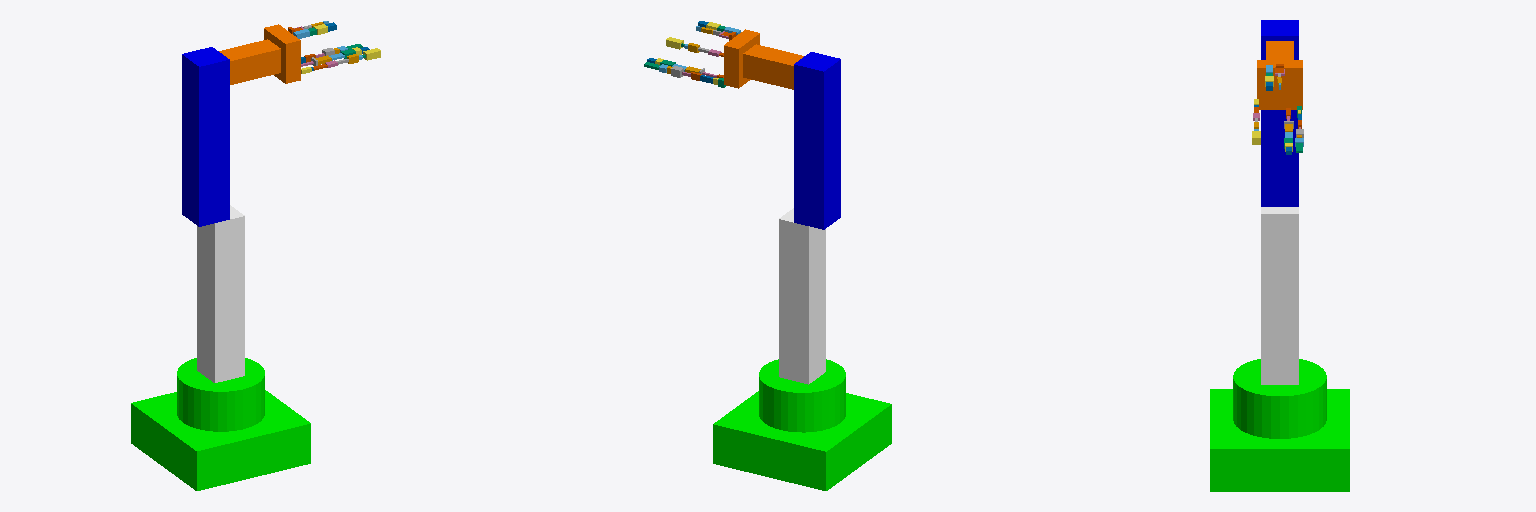
--- What the picture shows (computed from the rendered views, not written in the file) ---
3 views of the same robot in one strip: view 1: azimuth 30°, elevation 25°; view 2: azimuth 150°, elevation 25°; view 3: azimuth 270°, elevation 25° (orthographic).
Robot: robot — 44 links, 43 joints (40 revolute, 1 continuous, 2 fixed); root link base_link; default pose: all joints at 0.
Visible links, largest first — view 1: base_link, arm_link, support_link, wrist_link, palm_link; view 2: base_link, arm_link, support_link, wrist_link, palm_link; view 3: base_link, support_link, arm_link, palm_link, wrist_link.
Link boxes in pixels (box(x1,y1,x2,y2)): base_link: box(131, 358, 310, 490); arm_link: box(182, 47, 229, 226); support_link: box(197, 205, 244, 382); wrist_link: box(219, 39, 280, 84); palm_link: box(264, 24, 300, 83); base_link: box(713, 359, 891, 490); arm_link: box(794, 52, 840, 229); support_link: box(779, 208, 825, 384); wrist_link: box(743, 44, 803, 89); palm_link: box(724, 29, 759, 88); base_link: box(1210, 359, 1349, 491); support_link: box(1261, 207, 1298, 384); arm_link: box(1261, 20, 1298, 206); palm_link: box(1257, 60, 1302, 109); wrist_link: box(1266, 41, 1293, 59).
Size in the robot's own frame: 1.36 by 0.75 by 2.55 metres.
Geometry: primitives only (box / cylinder / sphere), no mesh files.

The robot description file, URDF, robot "robot":
<?xml version='1.0' encoding='utf-8'?>
<robot name="robot">
  <link name="base_link">
    <visual>
      <origin xyz="0 0 0.125" rpy="0 0 0" />
      <geometry>
        <box size="0.75 0.75 0.25" />
      </geometry>
      <material name="green" />
    </visual>
    <visual>
      <origin xyz="0 0 0.375" rpy="0 0 0" />
      <geometry>
        <cylinder length="0.25" radius="0.25" />
      </geometry>
      <material name="green">
        <color rgba="0 1 0 1" />
      </material>
    </visual>
    <collision>
      <geometry>
        <box size="0.75 0.75 0.5" />
      </geometry>
    </collision>
    <inertial>
      <mass value="0.5" />
      <inertia ixx="0.034" ixy="0.0" ixz="0.0" iyy="0.034" iyz="0.0" izz="0.034" />
    </inertial>
  </link>
  <link name="support_link">
    <visual>
      <origin xyz="0 0 0.5" rpy="0 0 0" />
      <geometry>
        <box size="0.2 0.2 1" />
      </geometry>
      <material name="white">
        <color rgba="1 1 1 1" />
      </material>
    </visual>
    <collision>
      <geometry>
        <box size="0.2 0.2 1" />
      </geometry>
    </collision>
    <inertial>
      <mass value="0.1" />
      <inertia ixx="0.01" ixy="0.0" ixz="0.0" iyy="0.01" iyz="0.0" izz="0.01" />
    </inertial>
  </link>
  <joint name="support_joint" type="continuous">
    <origin xyz="0 0 0.5" rpy="0 0 0" />
    <parent link="base_link" />
    <child link="support_link" />
    <axis xyz="0 0 1" />
  </joint>
  <link name="arm_link">
    <visual>
      <origin xyz="0 0 0.5" rpy="0 0 0" />
      <geometry>
        <box size="0.2 0.2 1" />
      </geometry>
      <material name="blue">
        <color rgba="0 0 1 1" />
      </material>
    </visual>
    <collision>
      <geometry>
        <box size="0.2 0.2 1" />
      </geometry>
    </collision>
    <inertial>
      <mass value="0.1" />
      <inertia ixx="0.01" ixy="0.0" ixz="0.0" iyy="0.01" iyz="0.0" izz="0.01" />
    </inertial>
  </link>
  <joint name="arm_joint" type="revolute">
    <origin xyz="-0.1 0 1" rpy="0 0 0" />
    <parent link="support_link" />
    <child link="arm_link" />
    <axis xyz="0 1 0" />
    <limit lower="-3.14" upper="3.14" effort="1.0" velocity="1.0" />
  </joint>
  <link name="wrist_link">
    <visual>
      <origin xyz="0 0 0.25" rpy="0 0 0" />
      <geometry>
        <box size="0.15 0.15 0.5" />
      </geometry>
      <material name="orange">
        <color rgba="1 0.5 0 1" />
      </material>
    </visual>
    <collision>
      <geometry>
        <box size="0.15 0.15 0.5" />
      </geometry>
    </collision>
    <inertial>
      <mass value="0.1" />
      <inertia ixx="0.01" ixy="0.0" ixz="0.0" iyy="0.01" iyz="0.0" izz="0.01" />
    </inertial>
  </link>
  <joint name="wrist_joint" type="fixed">
    <origin xyz="0 0 0.9" rpy="0 1.571 0" />
    <parent link="arm_link" />
    <child link="wrist_link" />
  </joint>
  <link name="palm_link">
    <visual>
      <origin xyz="0 0 0.05" rpy="0 0 0" />
      <geometry>
        <box size="0.25 0.25 0.1" />
      </geometry>
      <material name="orange" />
    </visual>
    <collision>
      <geometry>
        <box size="0.25 0.25 0.1" />
      </geometry>
    </collision>
    <inertial>
      <mass value="0.1" />
      <inertia ixx="0.01" ixy="0.0" ixz="0.0" iyy="0.01" iyz="0.0" izz="0.01" />
    </inertial>
  </link>
  <joint name="palm_joint" type="fixed">
    <origin xyz="0 0 0.45" rpy="0 0 0" />
    <parent link="wrist_link" />
    <child link="palm_link" />
  </joint>
  <link name="finger_link_0_0">
    <visual>
      <origin xyz="0 0 0.0385" rpy="0 0 0" />
      <geometry>
        <box size="0.013 0.046 0.077" />
      </geometry>
    </visual>
    <collision>
      <geometry>
        <box size="0.013 0.046 0.077" />
      </geometry>
    </collision>
    <inertial>
      <mass value="0.014" />
      <inertia ixx="0.0" iyy="0.0" izz="0.0" ixy="0" ixz="0" iyz="0" />
    </inertial>
  </link>
  <joint name="finger_joint_palm_link_to_finger_link_0_0" type="revolute">
    <origin xyz="-0.125 -0.004 0.1" rpy="0 0 0" />
    <parent link="palm_link" />
    <child link="finger_link_0_0" />
    <axis xyz="0.0 -1.0 0.0" />
    <limit lower="-3.142" upper="3.142" effort="10" velocity="10" />
  </joint>
  <link name="finger_link_0_1">
    <visual>
      <origin xyz="0 0 0.0055" rpy="0 0 0" />
      <geometry>
        <box size="0.015 0.047 0.011" />
      </geometry>
    </visual>
    <collision>
      <geometry>
        <box size="0.015 0.047 0.011" />
      </geometry>
    </collision>
    <inertial>
      <mass value="0.002" />
      <inertia ixx="0.0" iyy="0.0" izz="0.0" ixy="0" ixz="0" iyz="0" />
    </inertial>
  </link>
  <joint name="finger_joint_finger_link_0_0_to_finger_link_0_1" type="revolute">
    <origin xyz="0.0 0.0 0.077" rpy="0 0 0" />
    <parent link="finger_link_0_0" />
    <child link="finger_link_0_1" />
    <axis xyz="0.0 1.0 0.0" />
    <limit lower="-3.142" upper="3.142" effort="10" velocity="10" />
  </joint>
  <link name="finger_link_0_2">
    <visual>
      <origin xyz="0 0 0.0265" rpy="0 0 0" />
      <geometry>
        <box size="0.021 0.015 0.053" />
      </geometry>
    </visual>
    <collision>
      <geometry>
        <box size="0.021 0.015 0.053" />
      </geometry>
    </collision>
    <inertial>
      <mass value="0.005" />
      <inertia ixx="0.0" iyy="0.0" izz="0.0" ixy="0" ixz="0" iyz="0" />
    </inertial>
  </link>
  <joint name="finger_joint_finger_link_0_1_to_finger_link_0_2" type="revolute">
    <origin xyz="0.0 0.0 0.011" rpy="0 0 0" />
    <parent link="finger_link_0_1" />
    <child link="finger_link_0_2" />
    <axis xyz="0.0 1.0 0.0" />
    <limit lower="-3.142" upper="3.142" effort="10" velocity="10" />
  </joint>
  <link name="finger_link_0_3">
    <visual>
      <origin xyz="0 0 0.0125" rpy="0 0 0" />
      <geometry>
        <box size="0.025 0.023 0.025" />
      </geometry>
    </visual>
    <collision>
      <geometry>
        <box size="0.025 0.023 0.025" />
      </geometry>
    </collision>
    <inertial>
      <mass value="0.004" />
      <inertia ixx="0.0" iyy="0.0" izz="0.0" ixy="0" ixz="0" iyz="0" />
    </inertial>
  </link>
  <joint name="finger_joint_finger_link_0_2_to_finger_link_0_3" type="revolute">
    <origin xyz="0.0 0.0 0.053" rpy="0 0 0" />
    <parent link="finger_link_0_2" />
    <child link="finger_link_0_3" />
    <axis xyz="0.0 1.0 0.0" />
    <limit lower="-3.142" upper="3.142" effort="10" velocity="10" />
  </joint>
  <link name="finger_link_1_0">
    <visual>
      <origin xyz="0 0 0.0455" rpy="0 0 0" />
      <geometry>
        <box size="0.032 0.039 0.091" />
      </geometry>
    </visual>
    <collision>
      <geometry>
        <box size="0.032 0.039 0.091" />
      </geometry>
    </collision>
    <inertial>
      <mass value="0.034" />
      <inertia ixx="0.0" iyy="0.0" izz="0.0" ixy="0" ixz="0" iyz="0" />
    </inertial>
  </link>
  <joint name="finger_joint_palm_link_to_finger_link_1_0" type="revolute">
    <origin xyz="-0.125 -0.056 0.1" rpy="0 0 0" />
    <parent link="palm_link" />
    <child link="finger_link_1_0" />
    <axis xyz="0.0 -1.0 0.0" />
    <limit lower="-3.142" upper="3.142" effort="10" velocity="10" />
  </joint>
  <link name="finger_link_1_1">
    <visual>
      <origin xyz="0 0 0.0225" rpy="0 0 0" />
      <geometry>
        <box size="0.028 0.039 0.045" />
      </geometry>
    </visual>
    <collision>
      <geometry>
        <box size="0.028 0.039 0.045" />
      </geometry>
    </collision>
    <inertial>
      <mass value="0.015" />
      <inertia ixx="0.0" iyy="0.0" izz="0.0" ixy="0" ixz="0" iyz="0" />
    </inertial>
  </link>
  <joint name="finger_joint_finger_link_1_0_to_finger_link_1_1" type="revolute">
    <origin xyz="0.0 0.0 0.091" rpy="0 0 0" />
    <parent link="finger_link_1_0" />
    <child link="finger_link_1_1" />
    <axis xyz="0.0 1.0 0.0" />
    <limit lower="-3.142" upper="3.142" effort="10" velocity="10" />
  </joint>
  <link name="finger_link_1_2">
    <visual>
      <origin xyz="0 0 0.035" rpy="0 0 0" />
      <geometry>
        <box size="0.035 0.048 0.07" />
      </geometry>
    </visual>
    <collision>
      <geometry>
        <box size="0.035 0.048 0.07" />
      </geometry>
    </collision>
    <inertial>
      <mass value="0.035" />
      <inertia ixx="0.0" iyy="0.0" izz="0.0" ixy="0" ixz="0" iyz="0" />
    </inertial>
  </link>
  <joint name="finger_joint_finger_link_1_1_to_finger_link_1_2" type="revolute">
    <origin xyz="0.0 0.0 0.045" rpy="0 0 0" />
    <parent link="finger_link_1_1" />
    <child link="finger_link_1_2" />
    <axis xyz="1.0 0.0 0.0" />
    <limit lower="-3.142" upper="3.142" effort="10" velocity="10" />
  </joint>
  <link name="finger_link_1_3">
    <visual>
      <origin xyz="0 0 0.0295" rpy="0 0 0" />
      <geometry>
        <box size="0.03 0.038 0.059" />
      </geometry>
    </visual>
    <collision>
      <geometry>
        <box size="0.03 0.038 0.059" />
      </geometry>
    </collision>
    <inertial>
      <mass value="0.02" />
      <inertia ixx="0.0" iyy="0.0" izz="0.0" ixy="0" ixz="0" iyz="0" />
    </inertial>
  </link>
  <joint name="finger_joint_finger_link_1_2_to_finger_link_1_3" type="revolute">
    <origin xyz="0.0 0.0 0.07" rpy="0 0 0" />
    <parent link="finger_link_1_2" />
    <child link="finger_link_1_3" />
    <axis xyz="1.0 0.0 0.0" />
    <limit lower="-3.142" upper="3.142" effort="10" velocity="10" />
  </joint>
  <link name="finger_link_2_0">
    <visual>
      <origin xyz="0 0 0.0415" rpy="0 0 0" />
      <geometry>
        <box size="0.024 0.028 0.083" />
      </geometry>
    </visual>
    <collision>
      <geometry>
        <box size="0.024 0.028 0.083" />
      </geometry>
    </collision>
    <inertial>
      <mass value="0.017" />
      <inertia ixx="0.0" iyy="0.0" izz="0.0" ixy="0" ixz="0" iyz="0" />
    </inertial>
  </link>
  <joint name="finger_joint_palm_link_to_finger_link_2_0" type="revolute">
    <origin xyz="0.125 0.047 0.1" rpy="0 0 0" />
    <parent link="palm_link" />
    <child link="finger_link_2_0" />
    <axis xyz="0.0 1.0 0.0" />
    <limit lower="-3.142" upper="3.142" effort="10" velocity="10" />
  </joint>
  <link name="finger_link_2_1">
    <visual>
      <origin xyz="0 0 0.049" rpy="0 0 0" />
      <geometry>
        <box size="0.011 0.015 0.098" />
      </geometry>
    </visual>
    <collision>
      <geometry>
        <box size="0.011 0.015 0.098" />
      </geometry>
    </collision>
    <inertial>
      <mass value="0.005" />
      <inertia ixx="0.0" iyy="0.0" izz="0.0" ixy="0" ixz="0" iyz="0" />
    </inertial>
  </link>
  <joint name="finger_joint_finger_link_2_0_to_finger_link_2_1" type="revolute">
    <origin xyz="0.0 0.0 0.083" rpy="0 0 0" />
    <parent link="finger_link_2_0" />
    <child link="finger_link_2_1" />
    <axis xyz="1.0 1.0 0.0" />
    <limit lower="-3.142" upper="3.142" effort="10" velocity="10" />
  </joint>
  <link name="finger_link_2_2">
    <visual>
      <origin xyz="0 0 0.0065" rpy="0 0 0" />
      <geometry>
        <box size="0.04 0.05 0.013" />
      </geometry>
    </visual>
    <collision>
      <geometry>
        <box size="0.04 0.05 0.013" />
      </geometry>
    </collision>
    <inertial>
      <mass value="0.008" />
      <inertia ixx="0.0" iyy="0.0" izz="0.0" ixy="0" ixz="0" iyz="0" />
    </inertial>
  </link>
  <joint name="finger_joint_finger_link_2_1_to_finger_link_2_2" type="revolute">
    <origin xyz="0.0 0.0 0.098" rpy="0 0 0" />
    <parent link="finger_link_2_1" />
    <child link="finger_link_2_2" />
    <axis xyz="0.0 1.0 0.0" />
    <limit lower="-3.142" upper="3.142" effort="10" velocity="10" />
  </joint>
  <link name="finger_link_2_3">
    <visual>
      <origin xyz="0 0 0.0465" rpy="0 0 0" />
      <geometry>
        <box size="0.022 0.046 0.093" />
      </geometry>
    </visual>
    <collision>
      <geometry>
        <box size="0.022 0.046 0.093" />
      </geometry>
    </collision>
    <inertial>
      <mass value="0.028" />
      <inertia ixx="0.0" iyy="0.0" izz="0.0" ixy="0" ixz="0" iyz="0" />
    </inertial>
  </link>
  <joint name="finger_joint_finger_link_2_2_to_finger_link_2_3" type="revolute">
    <origin xyz="0.0 0.0 0.013" rpy="0 0 0" />
    <parent link="finger_link_2_2" />
    <child link="finger_link_2_3" />
    <axis xyz="0.0 1.0 0.0" />
    <limit lower="-3.142" upper="3.142" effort="10" velocity="10" />
  </joint>
  <link name="finger_link_2_4">
    <visual>
      <origin xyz="0 0 0.044" rpy="0 0 0" />
      <geometry>
        <box size="0.013 0.041 0.088" />
      </geometry>
    </visual>
    <collision>
      <geometry>
        <box size="0.013 0.041 0.088" />
      </geometry>
    </collision>
    <inertial>
      <mass value="0.014" />
      <inertia ixx="0.0" iyy="0.0" izz="0.0" ixy="0" ixz="0" iyz="0" />
    </inertial>
  </link>
  <joint name="finger_joint_finger_link_2_3_to_finger_link_2_4" type="revolute">
    <origin xyz="0.0 0.0 0.093" rpy="0 0 0" />
    <parent link="finger_link_2_3" />
    <child link="finger_link_2_4" />
    <axis xyz="1.0 1.0 0.0" />
    <limit lower="-3.142" upper="3.142" effort="10" velocity="10" />
  </joint>
  <link name="finger_link_2_5">
    <visual>
      <origin xyz="0 0 0.037" rpy="0 0 0" />
      <geometry>
        <box size="0.03 0.047 0.074" />
      </geometry>
    </visual>
    <collision>
      <geometry>
        <box size="0.03 0.047 0.074" />
      </geometry>
    </collision>
    <inertial>
      <mass value="0.031" />
      <inertia ixx="0.0" iyy="0.0" izz="0.0" ixy="0" ixz="0" iyz="0" />
    </inertial>
  </link>
  <joint name="finger_joint_finger_link_2_4_to_finger_link_2_5" type="revolute">
    <origin xyz="0.0 0.0 0.088" rpy="0 0 0" />
    <parent link="finger_link_2_4" />
    <child link="finger_link_2_5" />
    <axis xyz="0.0 1.0 0.0" />
    <limit lower="-3.142" upper="3.142" effort="10" velocity="10" />
  </joint>
  <link name="finger_link_2_6">
    <visual>
      <origin xyz="0 0 0.018" rpy="0 0 0" />
      <geometry>
        <box size="0.032 0.046 0.036" />
      </geometry>
    </visual>
    <collision>
      <geometry>
        <box size="0.032 0.046 0.036" />
      </geometry>
    </collision>
    <inertial>
      <mass value="0.016" />
      <inertia ixx="0.0" iyy="0.0" izz="0.0" ixy="0" ixz="0" iyz="0" />
    </inertial>
  </link>
  <joint name="finger_joint_finger_link_2_5_to_finger_link_2_6" type="revolute">
    <origin xyz="0.0 0.0 0.074" rpy="0 0 0" />
    <parent link="finger_link_2_5" />
    <child link="finger_link_2_6" />
    <axis xyz="1.0 0.0 0.0" />
    <limit lower="-3.142" upper="3.142" effort="10" velocity="10" />
  </joint>
  <link name="finger_link_2_7">
    <visual>
      <origin xyz="0 0 0.027" rpy="0 0 0" />
      <geometry>
        <box size="0.02 0.032 0.054" />
      </geometry>
    </visual>
    <collision>
      <geometry>
        <box size="0.02 0.032 0.054" />
      </geometry>
    </collision>
    <inertial>
      <mass value="0.01" />
      <inertia ixx="0.0" iyy="0.0" izz="0.0" ixy="0" ixz="0" iyz="0" />
    </inertial>
  </link>
  <joint name="finger_joint_finger_link_2_6_to_finger_link_2_7" type="revolute">
    <origin xyz="0.0 0.0 0.036" rpy="0 0 0" />
    <parent link="finger_link_2_6" />
    <child link="finger_link_2_7" />
    <axis xyz="1.0 1.0 0.0" />
    <limit lower="-3.142" upper="3.142" effort="10" velocity="10" />
  </joint>
  <link name="finger_link_3_0">
    <visual>
      <origin xyz="0 0 0.011" rpy="0 0 0" />
      <geometry>
        <box size="0.042 0.046 0.022" />
      </geometry>
    </visual>
    <collision>
      <geometry>
        <box size="0.042 0.046 0.022" />
      </geometry>
    </collision>
    <inertial>
      <mass value="0.013" />
      <inertia ixx="0.0" iyy="0.0" izz="0.0" ixy="0" ixz="0" iyz="0" />
    </inertial>
  </link>
  <joint name="finger_joint_palm_link_to_finger_link_3_0" type="revolute">
    <origin xyz="-0.125 0.0 0.1" rpy="0 0 0" />
    <parent link="palm_link" />
    <child link="finger_link_3_0" />
    <axis xyz="0.0 -1.0 0.0" />
    <limit lower="-3.142" upper="3.142" effort="10" velocity="10" />
  </joint>
  <link name="finger_link_3_1">
    <visual>
      <origin xyz="0 0 0.0345" rpy="0 0 0" />
      <geometry>
        <box size="0.012 0.049 0.069" />
      </geometry>
    </visual>
    <collision>
      <geometry>
        <box size="0.012 0.049 0.069" />
      </geometry>
    </collision>
    <inertial>
      <mass value="0.012" />
      <inertia ixx="0.0" iyy="0.0" izz="0.0" ixy="0" ixz="0" iyz="0" />
    </inertial>
  </link>
  <joint name="finger_joint_finger_link_3_0_to_finger_link_3_1" type="revolute">
    <origin xyz="0.0 0.0 0.022" rpy="0 0 0" />
    <parent link="finger_link_3_0" />
    <child link="finger_link_3_1" />
    <axis xyz="1.0 0.0 0.0" />
    <limit lower="-3.142" upper="3.142" effort="10" velocity="10" />
  </joint>
  <link name="finger_link_3_2">
    <visual>
      <origin xyz="0 0 0.0335" rpy="0 0 0" />
      <geometry>
        <box size="0.024 0.013 0.067" />
      </geometry>
    </visual>
    <collision>
      <geometry>
        <box size="0.024 0.013 0.067" />
      </geometry>
    </collision>
    <inertial>
      <mass value="0.006" />
      <inertia ixx="0.0" iyy="0.0" izz="0.0" ixy="0" ixz="0" iyz="0" />
    </inertial>
  </link>
  <joint name="finger_joint_finger_link_3_1_to_finger_link_3_2" type="revolute">
    <origin xyz="0.0 0.0 0.069" rpy="0 0 0" />
    <parent link="finger_link_3_1" />
    <child link="finger_link_3_2" />
    <axis xyz="1.0 0.0 0.0" />
    <limit lower="-3.142" upper="3.142" effort="10" velocity="10" />
  </joint>
  <link name="finger_link_3_3">
    <visual>
      <origin xyz="0 0 0.0295" rpy="0 0 0" />
      <geometry>
        <box size="0.024 0.019 0.059" />
      </geometry>
    </visual>
    <collision>
      <geometry>
        <box size="0.024 0.019 0.059" />
      </geometry>
    </collision>
    <inertial>
      <mass value="0.008" />
      <inertia ixx="0.0" iyy="0.0" izz="0.0" ixy="0" ixz="0" iyz="0" />
    </inertial>
  </link>
  <joint name="finger_joint_finger_link_3_2_to_finger_link_3_3" type="revolute">
    <origin xyz="0.0 0.0 0.067" rpy="0 0 0" />
    <parent link="finger_link_3_2" />
    <child link="finger_link_3_3" />
    <axis xyz="0.0 1.0 0.0" />
    <limit lower="-3.142" upper="3.142" effort="10" velocity="10" />
  </joint>
  <link name="finger_link_3_4">
    <visual>
      <origin xyz="0 0 0.0165" rpy="0 0 0" />
      <geometry>
        <box size="0.027 0.011 0.033" />
      </geometry>
    </visual>
    <collision>
      <geometry>
        <box size="0.027 0.011 0.033" />
      </geometry>
    </collision>
    <inertial>
      <mass value="0.003" />
      <inertia ixx="0.0" iyy="0.0" izz="0.0" ixy="0" ixz="0" iyz="0" />
    </inertial>
  </link>
  <joint name="finger_joint_finger_link_3_3_to_finger_link_3_4" type="revolute">
    <origin xyz="0.0 0.0 0.059" rpy="0 0 0" />
    <parent link="finger_link_3_3" />
    <child link="finger_link_3_4" />
    <axis xyz="0.0 1.0 0.0" />
    <limit lower="-3.142" upper="3.142" effort="10" velocity="10" />
  </joint>
  <link name="finger_link_4_0">
    <visual>
      <origin xyz="0 0 0.0205" rpy="0 0 0" />
      <geometry>
        <box size="0.046 0.028 0.041" />
      </geometry>
    </visual>
    <collision>
      <geometry>
        <box size="0.046 0.028 0.041" />
      </geometry>
    </collision>
    <inertial>
      <mass value="0.016" />
      <inertia ixx="0.0" iyy="0.0" izz="0.0" ixy="0" ixz="0" iyz="0" />
    </inertial>
  </link>
  <joint name="finger_joint_palm_link_to_finger_link_4_0" type="revolute">
    <origin xyz="0.125 0.105 0.1" rpy="0 0 0" />
    <parent link="palm_link" />
    <child link="finger_link_4_0" />
    <axis xyz="0.0 1.0 0.0" />
    <limit lower="-3.142" upper="3.142" effort="10" velocity="10" />
  </joint>
  <link name="finger_link_4_1">
    <visual>
      <origin xyz="0 0 0.0165" rpy="0 0 0" />
      <geometry>
        <box size="0.037 0.017 0.033" />
      </geometry>
    </visual>
    <collision>
      <geometry>
        <box size="0.037 0.017 0.033" />
      </geometry>
    </collision>
    <inertial>
      <mass value="0.006" />
      <inertia ixx="0.0" iyy="0.0" izz="0.0" ixy="0" ixz="0" iyz="0" />
    </inertial>
  </link>
  <joint name="finger_joint_finger_link_4_0_to_finger_link_4_1" type="revolute">
    <origin xyz="0.0 0.0 0.041" rpy="0 0 0" />
    <parent link="finger_link_4_0" />
    <child link="finger_link_4_1" />
    <axis xyz="0.0 1.0 0.0" />
    <limit lower="-3.142" upper="3.142" effort="10" velocity="10" />
  </joint>
  <link name="finger_link_4_2">
    <visual>
      <origin xyz="0 0 0.0425" rpy="0 0 0" />
      <geometry>
        <box size="0.032 0.02 0.085" />
      </geometry>
    </visual>
    <collision>
      <geometry>
        <box size="0.032 0.02 0.085" />
      </geometry>
    </collision>
    <inertial>
      <mass value="0.016" />
      <inertia ixx="0.0" iyy="0.0" izz="0.0" ixy="0" ixz="0" iyz="0" />
    </inertial>
  </link>
  <joint name="finger_joint_finger_link_4_1_to_finger_link_4_2" type="revolute">
    <origin xyz="0.0 0.0 0.033" rpy="0 0 0" />
    <parent link="finger_link_4_1" />
    <child link="finger_link_4_2" />
    <axis xyz="0.0 1.0 0.0" />
    <limit lower="-3.142" upper="3.142" effort="10" velocity="10" />
  </joint>
  <link name="finger_link_4_3">
    <visual>
      <origin xyz="0 0 0.032" rpy="0 0 0" />
      <geometry>
        <box size="0.039 0.02 0.064" />
      </geometry>
    </visual>
    <collision>
      <geometry>
        <box size="0.039 0.02 0.064" />
      </geometry>
    </collision>
    <inertial>
      <mass value="0.015" />
      <inertia ixx="0.0" iyy="0.0" izz="0.0" ixy="0" ixz="0" iyz="0" />
    </inertial>
  </link>
  <joint name="finger_joint_finger_link_4_2_to_finger_link_4_3" type="revolute">
    <origin xyz="0.0 0.0 0.085" rpy="0 0 0" />
    <parent link="finger_link_4_2" />
    <child link="finger_link_4_3" />
    <axis xyz="0.0 1.0 0.0" />
    <limit lower="-3.142" upper="3.142" effort="10" velocity="10" />
  </joint>
  <link name="finger_link_4_4">
    <visual>
      <origin xyz="0 0 0.031" rpy="0 0 0" />
      <geometry>
        <box size="0.017 0.012 0.062" />
      </geometry>
    </visual>
    <collision>
      <geometry>
        <box size="0.017 0.012 0.062" />
      </geometry>
    </collision>
    <inertial>
      <mass value="0.004" />
      <inertia ixx="0.0" iyy="0.0" izz="0.0" ixy="0" ixz="0" iyz="0" />
    </inertial>
  </link>
  <joint name="finger_joint_finger_link_4_3_to_finger_link_4_4" type="revolute">
    <origin xyz="0.0 0.0 0.064" rpy="0 0 0" />
    <parent link="finger_link_4_3" />
    <child link="finger_link_4_4" />
    <axis xyz="0.0 1.0 0.0" />
    <limit lower="-3.142" upper="3.142" effort="10" velocity="10" />
  </joint>
  <link name="finger_link_4_5">
    <visual>
      <origin xyz="0 0 0.0295" rpy="0 0 0" />
      <geometry>
        <box size="0.048 0.043 0.059" />
      </geometry>
    </visual>
    <collision>
      <geometry>
        <box size="0.048 0.043 0.059" />
      </geometry>
    </collision>
    <inertial>
      <mass value="0.037" />
      <inertia ixx="0.0" iyy="0.0" izz="0.0" ixy="0" ixz="0" iyz="0" />
    </inertial>
  </link>
  <joint name="finger_joint_finger_link_4_4_to_finger_link_4_5" type="revolute">
    <origin xyz="0.0 0.0 0.062" rpy="0 0 0" />
    <parent link="finger_link_4_4" />
    <child link="finger_link_4_5" />
    <axis xyz="0.0 1.0 0.0" />
    <limit lower="-3.142" upper="3.142" effort="10" velocity="10" />
  </joint>
  <link name="finger_link_4_6">
    <visual>
      <origin xyz="0 0 0.0175" rpy="0 0 0" />
      <geometry>
        <box size="0.036 0.026 0.035" />
      </geometry>
    </visual>
    <collision>
      <geometry>
        <box size="0.036 0.026 0.035" />
      </geometry>
    </collision>
    <inertial>
      <mass value="0.01" />
      <inertia ixx="0.0" iyy="0.0" izz="0.0" ixy="0" ixz="0" iyz="0" />
    </inertial>
  </link>
  <joint name="finger_joint_finger_link_4_5_to_finger_link_4_6" type="revolute">
    <origin xyz="0.0 0.0 0.059" rpy="0 0 0" />
    <parent link="finger_link_4_5" />
    <child link="finger_link_4_6" />
    <axis xyz="0.0 1.0 0.0" />
    <limit lower="-3.142" upper="3.142" effort="10" velocity="10" />
  </joint>
  <link name="finger_link_4_7">
    <visual>
      <origin xyz="0 0 0.024" rpy="0 0 0" />
      <geometry>
        <box size="0.03 0.046 0.048" />
      </geometry>
    </visual>
    <collision>
      <geometry>
        <box size="0.03 0.046 0.048" />
      </geometry>
    </collision>
    <inertial>
      <mass value="0.02" />
      <inertia ixx="0.0" iyy="0.0" izz="0.0" ixy="0" ixz="0" iyz="0" />
    </inertial>
  </link>
  <joint name="finger_joint_finger_link_4_6_to_finger_link_4_7" type="revolute">
    <origin xyz="0.0 0.0 0.035" rpy="0 0 0" />
    <parent link="finger_link_4_6" />
    <child link="finger_link_4_7" />
    <axis xyz="1.0 0.0 0.0" />
    <limit lower="-3.142" upper="3.142" effort="10" velocity="10" />
  </joint>
  <link name="finger_link_4_8">
    <visual>
      <origin xyz="0 0 0.0495" rpy="0 0 0" />
      <geometry>
        <box size="0.016 0.038 0.099" />
      </geometry>
    </visual>
    <collision>
      <geometry>
        <box size="0.016 0.038 0.099" />
      </geometry>
    </collision>
    <inertial>
      <mass value="0.018" />
      <inertia ixx="0.0" iyy="0.0" izz="0.0" ixy="0" ixz="0" iyz="0" />
    </inertial>
  </link>
  <joint name="finger_joint_finger_link_4_7_to_finger_link_4_8" type="revolute">
    <origin xyz="0.0 0.0 0.048" rpy="0 0 0" />
    <parent link="finger_link_4_7" />
    <child link="finger_link_4_8" />
    <axis xyz="0.0 1.0 0.0" />
    <limit lower="-3.142" upper="3.142" effort="10" velocity="10" />
  </joint>
  <link name="finger_link_5_0">
    <visual>
      <origin xyz="0 0 0.033" rpy="0 0 0" />
      <geometry>
        <box size="0.023 0.025 0.066" />
      </geometry>
    </visual>
    <collision>
      <geometry>
        <box size="0.023 0.025 0.066" />
      </geometry>
    </collision>
    <inertial>
      <mass value="0.011" />
      <inertia ixx="0.0" iyy="0.0" izz="0.0" ixy="0" ixz="0" iyz="0" />
    </inertial>
  </link>
  <joint name="finger_joint_palm_link_to_finger_link_5_0" type="revolute">
    <origin xyz="0.071 -0.125 0.1" rpy="0 0 0" />
    <parent link="palm_link" />
    <child link="finger_link_5_0" />
    <axis xyz="1.0 0.0 0.0" />
    <limit lower="-3.142" upper="3.142" effort="10" velocity="10" />
  </joint>
  <link name="finger_link_5_1">
    <visual>
      <origin xyz="0 0 0.007" rpy="0 0 0" />
      <geometry>
        <box size="0.012 0.022 0.014" />
      </geometry>
    </visual>
    <collision>
      <geometry>
        <box size="0.012 0.022 0.014" />
      </geometry>
    </collision>
    <inertial>
      <mass value="0.001" />
      <inertia ixx="0.0" iyy="0.0" izz="0.0" ixy="0" ixz="0" iyz="0" />
    </inertial>
  </link>
  <joint name="finger_joint_finger_link_5_0_to_finger_link_5_1" type="revolute">
    <origin xyz="0.0 0.0 0.066" rpy="0 0 0" />
    <parent link="finger_link_5_0" />
    <child link="finger_link_5_1" />
    <axis xyz="1.0 0.0 0.0" />
    <limit lower="-3.142" upper="3.142" effort="10" velocity="10" />
  </joint>
  <link name="finger_link_5_2">
    <visual>
      <origin xyz="0 0 0.044" rpy="0 0 0" />
      <geometry>
        <box size="0.01 0.029 0.088" />
      </geometry>
    </visual>
    <collision>
      <geometry>
        <box size="0.01 0.029 0.088" />
      </geometry>
    </collision>
    <inertial>
      <mass value="0.008" />
      <inertia ixx="0.0" iyy="0.0" izz="0.0" ixy="0" ixz="0" iyz="0" />
    </inertial>
  </link>
  <joint name="finger_joint_finger_link_5_1_to_finger_link_5_2" type="revolute">
    <origin xyz="0.0 0.0 0.014" rpy="0 0 0" />
    <parent link="finger_link_5_1" />
    <child link="finger_link_5_2" />
    <axis xyz="0.0 1.0 0.0" />
    <limit lower="-3.142" upper="3.142" effort="10" velocity="10" />
  </joint>
  <link name="finger_link_5_3">
    <visual>
      <origin xyz="0 0 0.0325" rpy="0 0 0" />
      <geometry>
        <box size="0.019 0.037 0.065" />
      </geometry>
    </visual>
    <collision>
      <geometry>
        <box size="0.019 0.037 0.065" />
      </geometry>
    </collision>
    <inertial>
      <mass value="0.014" />
      <inertia ixx="0.0" iyy="0.0" izz="0.0" ixy="0" ixz="0" iyz="0" />
    </inertial>
  </link>
  <joint name="finger_joint_finger_link_5_2_to_finger_link_5_3" type="revolute">
    <origin xyz="0.0 0.0 0.088" rpy="0 0 0" />
    <parent link="finger_link_5_2" />
    <child link="finger_link_5_3" />
    <axis xyz="0.0 1.0 0.0" />
    <limit lower="-3.142" upper="3.142" effort="10" velocity="10" />
  </joint>
  <link name="finger_link_5_4">
    <visual>
      <origin xyz="0 0 0.0375" rpy="0 0 0" />
      <geometry>
        <box size="0.016 0.019 0.075" />
      </geometry>
    </visual>
    <collision>
      <geometry>
        <box size="0.016 0.019 0.075" />
      </geometry>
    </collision>
    <inertial>
      <mass value="0.007" />
      <inertia ixx="0.0" iyy="0.0" izz="0.0" ixy="0" ixz="0" iyz="0" />
    </inertial>
  </link>
  <joint name="finger_joint_finger_link_5_3_to_finger_link_5_4" type="revolute">
    <origin xyz="0.0 0.0 0.065" rpy="0 0 0" />
    <parent link="finger_link_5_3" />
    <child link="finger_link_5_4" />
    <axis xyz="1.0 0.0 0.0" />
    <limit lower="-3.142" upper="3.142" effort="10" velocity="10" />
  </joint>
  <link name="finger_link_5_5">
    <visual>
      <origin xyz="0 0 0.031" rpy="0 0 0" />
      <geometry>
        <box size="0.041 0.03 0.062" />
      </geometry>
    </visual>
    <collision>
      <geometry>
        <box size="0.041 0.03 0.062" />
      </geometry>
    </collision>
    <inertial>
      <mass value="0.023" />
      <inertia ixx="0.0" iyy="0.0" izz="0.0" ixy="0" ixz="0" iyz="0" />
    </inertial>
  </link>
  <joint name="finger_joint_finger_link_5_4_to_finger_link_5_5" type="revolute">
    <origin xyz="0.0 0.0 0.075" rpy="0 0 0" />
    <parent link="finger_link_5_4" />
    <child link="finger_link_5_5" />
    <axis xyz="0.0 1.0 0.0" />
    <limit lower="-3.142" upper="3.142" effort="10" velocity="10" />
  </joint>
  <link name="finger_link_5_6">
    <visual>
      <origin xyz="0 0 0.0135" rpy="0 0 0" />
      <geometry>
        <box size="0.018 0.029 0.027" />
      </geometry>
    </visual>
    <collision>
      <geometry>
        <box size="0.018 0.029 0.027" />
      </geometry>
    </collision>
    <inertial>
      <mass value="0.004" />
      <inertia ixx="0.0" iyy="0.0" izz="0.0" ixy="0" ixz="0" iyz="0" />
    </inertial>
  </link>
  <joint name="finger_joint_finger_link_5_5_to_finger_link_5_6" type="revolute">
    <origin xyz="0.0 0.0 0.062" rpy="0 0 0" />
    <parent link="finger_link_5_5" />
    <child link="finger_link_5_6" />
    <axis xyz="0.0 1.0 0.0" />
    <limit lower="-3.142" upper="3.142" effort="10" velocity="10" />
  </joint>
  <link name="finger_link_5_7">
    <visual>
      <origin xyz="0 0 0.0115" rpy="0 0 0" />
      <geometry>
        <box size="0.016 0.012 0.023" />
      </geometry>
    </visual>
    <collision>
      <geometry>
        <box size="0.016 0.012 0.023" />
      </geometry>
    </collision>
    <inertial>
      <mass value="0.001" />
      <inertia ixx="0.0" iyy="0.0" izz="0.0" ixy="0" ixz="0" iyz="0" />
    </inertial>
  </link>
  <joint name="finger_joint_finger_link_5_6_to_finger_link_5_7" type="revolute">
    <origin xyz="0.0 0.0 0.027" rpy="0 0 0" />
    <parent link="finger_link_5_6" />
    <child link="finger_link_5_7" />
    <axis xyz="0.0 1.0 0.0" />
    <limit lower="-3.142" upper="3.142" effort="10" velocity="10" />
  </joint>
  <link name="finger_link_5_8">
    <visual>
      <origin xyz="0 0 0.047" rpy="0 0 0" />
      <geometry>
        <box size="0.041 0.044 0.094" />
      </geometry>
    </visual>
    <collision>
      <geometry>
        <box size="0.041 0.044 0.094" />
      </geometry>
    </collision>
    <inertial>
      <mass value="0.051" />
      <inertia ixx="0.0" iyy="0.0" izz="0.0" ixy="0" ixz="0" iyz="0" />
    </inertial>
  </link>
  <joint name="finger_joint_finger_link_5_7_to_finger_link_5_8" type="revolute">
    <origin xyz="0.0 0.0 0.023" rpy="0 0 0" />
    <parent link="finger_link_5_7" />
    <child link="finger_link_5_8" />
    <axis xyz="0.0 1.0 0.0" />
    <limit lower="-3.142" upper="3.142" effort="10" velocity="10" />
  </joint>
</robot>
